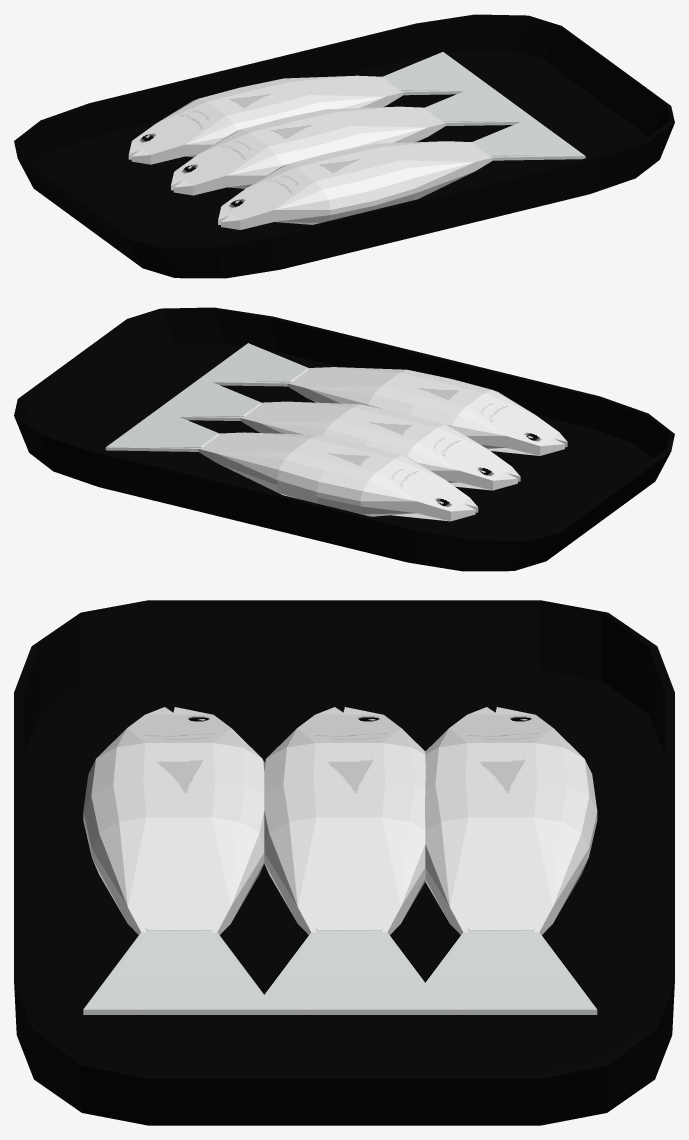
File: Collectible Item.fbx_Fish.fbx
3 views of the same model, one above another, from view 1: azimuth 30°, elevation 25°; view 2: azimuth 150°, elevation 25°; view 3: azimuth 270°, elevation 25° (orthographic). The views are drawn at different scales.
Visible parts, largest first — view 1: Fish Tray; view 2: Fish Tray; view 3: Fish Tray.
Part boxes in pixels (bbox=[...]): Fish Tray: bbox=[14, 14, 674, 278]; Fish Tray: bbox=[14, 307, 674, 571]; Fish Tray: bbox=[14, 600, 674, 1125].
Bounding box in the file's own units: 3.53 × 0.2835 × 2.06.
2 materials, 2 textured.
